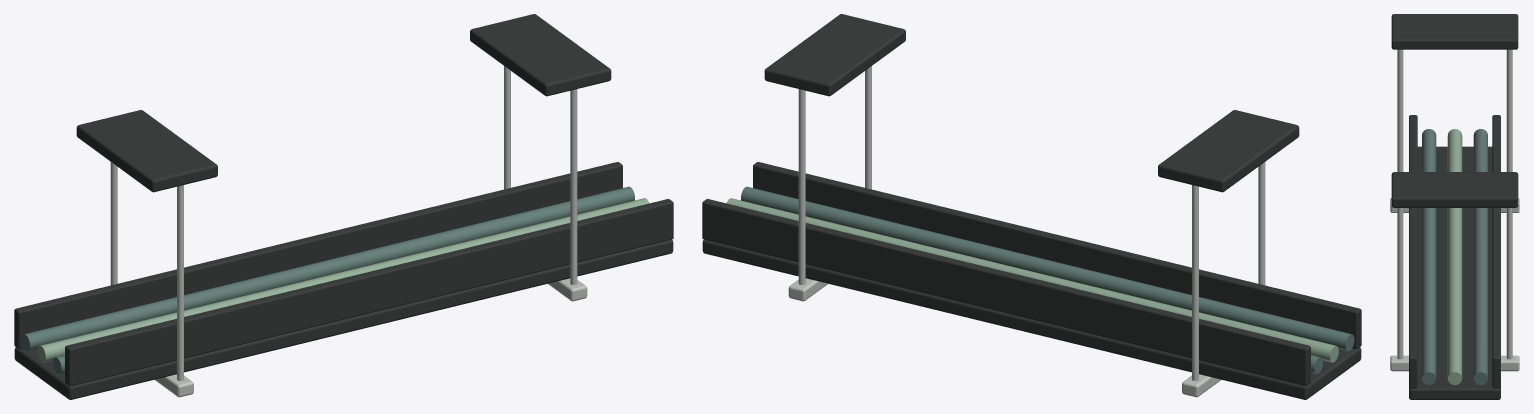
File: abandoned-telephone-exchange-overhead-cable-trough-ce23c78a__32004.glb
The picture shows the model from 3 angles, left to right: view 1: azimuth 30°, elevation 25°; view 2: azimuth 150°, elevation 25°; view 3: azimuth 270°, elevation 25°; orthographic projection. The views are drawn at different scales.
Visible parts, largest first — view 1: overhead-cable-trough; view 2: overhead-cable-trough; view 3: overhead-cable-trough.
Part boxes in pixels (box(x1,y1,x2,y2)): overhead-cable-trough: box(14, 14, 673, 399); overhead-cable-trough: box(702, 14, 1361, 399); overhead-cable-trough: box(1390, 14, 1519, 399).
Bounding box in the file's own units: 2 × 0.7051 × 0.45.
